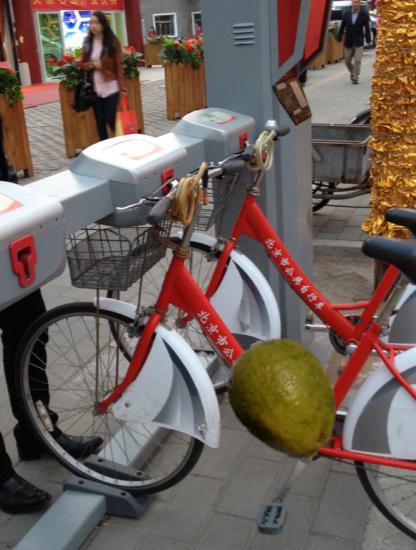Guava: (219, 336, 347, 464)
